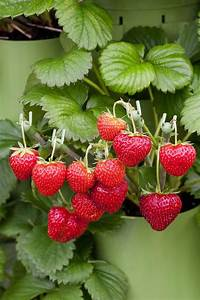Fresa: (137, 183, 184, 235), (42, 202, 91, 247), (110, 128, 157, 170), (156, 137, 197, 179), (29, 157, 68, 199), (8, 144, 42, 185), (92, 155, 129, 190), (65, 158, 99, 195), (95, 110, 130, 143)
